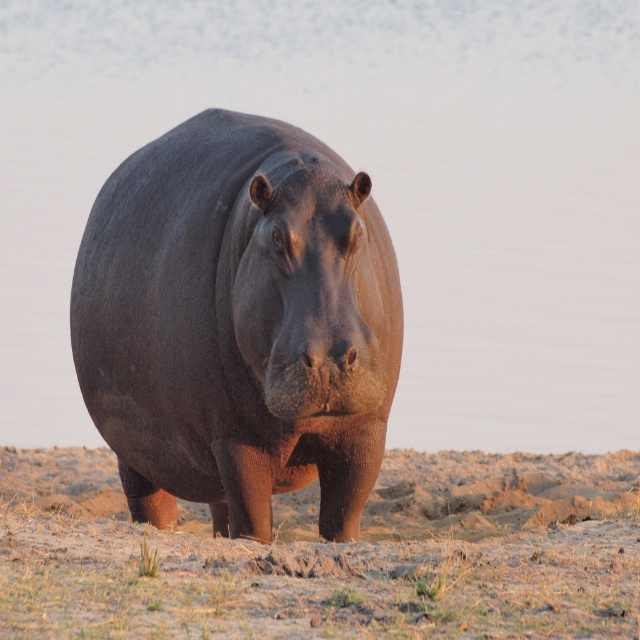Hippopotamus: (71, 107, 404, 542)
